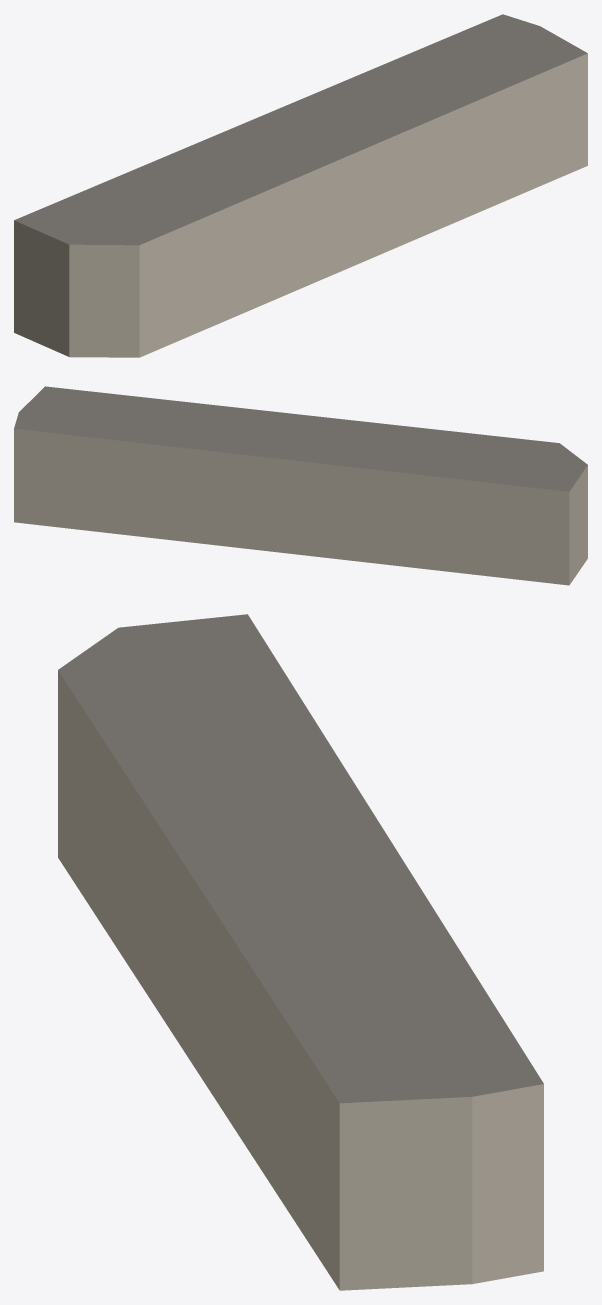
3 views of the same model, one above another, from view 1: azimuth 30°, elevation 25°; view 2: azimuth 150°, elevation 25°; view 3: azimuth 270°, elevation 25° (orthographic). The views are drawn at different scales.
Parts seen in each view (by area): view 1: HP-w936786012; view 2: HP-w936786012; view 3: HP-w936786012.
Boxes of the visible parts, <box> form: HP-w936786012: <box>14,14,587,357</box>; HP-w936786012: <box>14,386,587,585</box>; HP-w936786012: <box>58,614,543,1290</box>.
Bounding box in the file's own units: 83.97 × 15 × 35.28.
